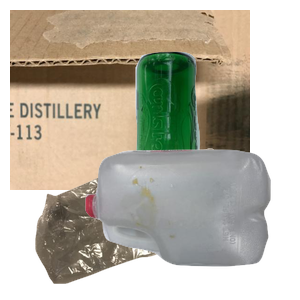cardboard: (10, 10, 250, 190)
glass: (129, 49, 300, 229)
plastic: (83, 147, 300, 300)
trash: (33, 145, 270, 300)
